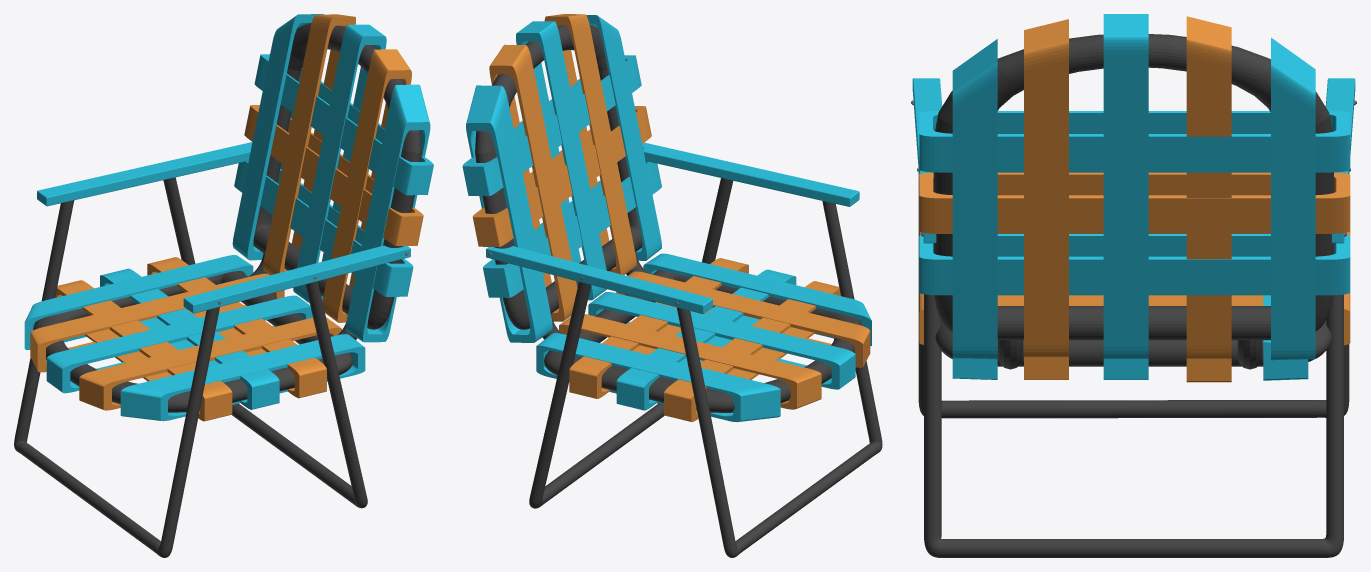
File: chair.glb
3 renders of one model, left to right at view 1: azimuth 30°, elevation 25°; view 2: azimuth 150°, elevation 25°; view 3: azimuth 270°, elevation 25°, orthographic. The views are drawn at different scales.
Parts seen in each view (by area): view 1: Cube.018, Cube.019, Cube.016, Cube.014, Cube.012, Cube.013, Cube.008, Cylinder.001, Cube.015, Cube.004, Cube.005, Cube.006 (+8 smaller); view 2: Cube.018, Cube.019, Cube.015, Cube.016, Cube.012, Cube.013, Cube.006, Cube.004, Cube.007, Cylinder.001, Cube.014, Cube.005 (+8 smaller); view 3: Cube.018, Cube.012, Cube.013, Cylinder.001, Cube.014, Cube.011, Cube.015, Cube.010, Cube.009, Cube.016, Cylinder, Cube.019 (+8 smaller).
Boxes of the visible parts, x1,y1,x2,y2 form: Cube.018: (14, 177, 367, 557); Cube.019: (37, 142, 410, 313); Cube.016: (263, 14, 355, 274); Cube.014: (346, 84, 430, 342); Cube.012: (293, 24, 386, 303); Cube.013: (322, 49, 411, 322); Cube.008: (120, 334, 365, 421); Cylinder.001: (253, 23, 421, 329); Cube.015: (232, 14, 323, 260); Cube.004: (46, 295, 312, 393); Cube.005: (79, 317, 341, 410); Cube.006: (24, 255, 253, 349); Cube.018: (529, 178, 882, 557); Cube.019: (486, 142, 859, 313); Cube.015: (466, 85, 552, 342); Cube.016: (489, 44, 577, 321); Cube.012: (516, 21, 606, 300); Cube.013: (544, 14, 636, 274); Cube.006: (536, 333, 780, 422); Cube.004: (588, 292, 855, 389); Cube.007: (559, 314, 821, 409); Cylinder.001: (475, 24, 642, 329); Cube.014: (586, 15, 661, 260); Cube.005: (616, 271, 870, 367); Cube.018: (918, 173, 1349, 557); Cube.012: (1103, 14, 1148, 358); Cube.013: (1024, 19, 1068, 357); Cylinder.001: (933, 34, 1333, 340); Cube.014: (952, 39, 997, 359); Cube.011: (919, 111, 1350, 172); Cube.015: (1271, 37, 1315, 360); Cube.010: (919, 172, 1350, 233); Cube.009: (919, 234, 1350, 295); Cube.016: (1186, 16, 1231, 358); Cylinder: (935, 320, 1331, 366); Cube.019: (912, 78, 1355, 243).
Size of the model in its own units: 10.66 by 12.99 by 8.97.
